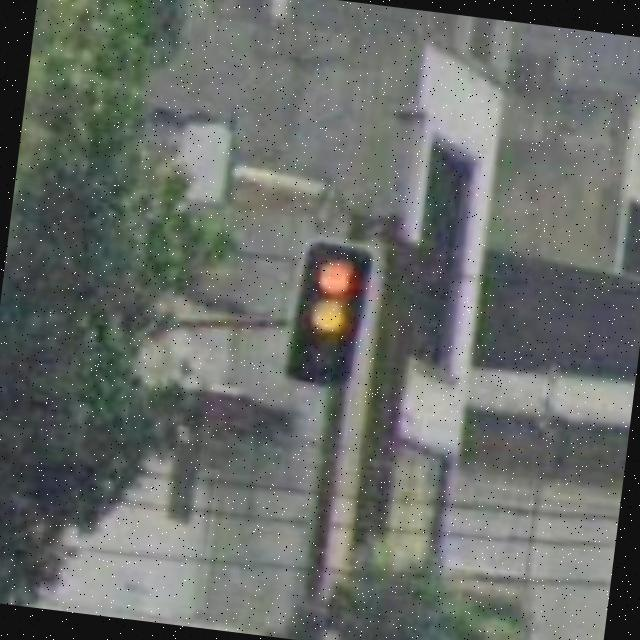Zolte swiatlo: (288, 238, 371, 390)
